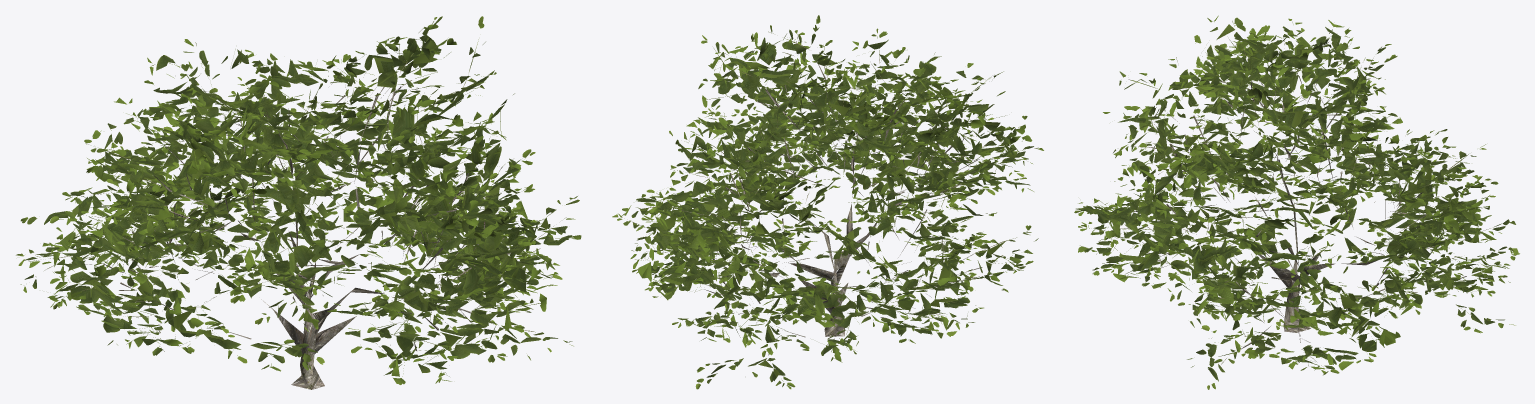
File: tree_orchid_lod1.glb
3 views of the same model, side by side, from view 1: azimuth 30°, elevation 25°; view 2: azimuth 150°, elevation 25°; view 3: azimuth 270°, elevation 25° (orthographic). The views are drawn at different scales.
Visible parts, largest first — view 1: Bauhinia_blakeana_HD; view 2: Bauhinia_blakeana_HD; view 3: Bauhinia_blakeana_HD.
Part boxes in pixels (x1=…): Bauhinia_blakeana_HD: x1=16, y1=16, x2=581, y2=389; Bauhinia_blakeana_HD: x1=612, y1=15, x2=1043, y2=389; Bauhinia_blakeana_HD: x1=1074, y1=15, x2=1519, y2=389.
Size of the model in its own units: 7.19 by 5.14 by 7.27.
Materials: 7 (7 with a texture image).
